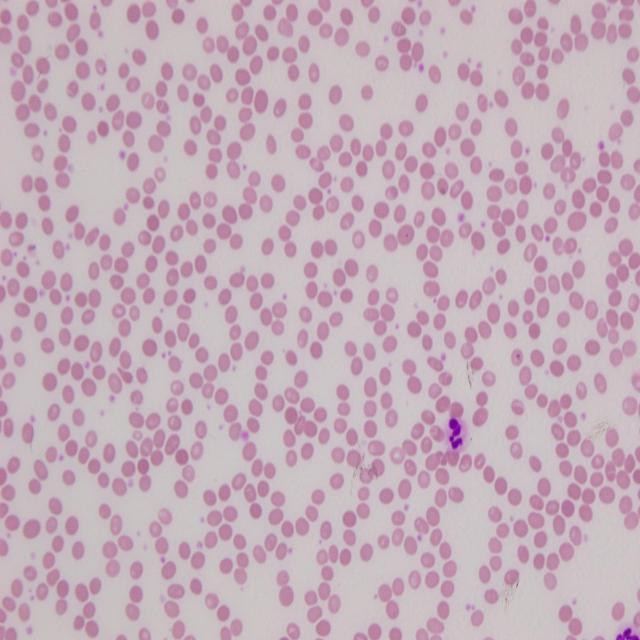cell: (445, 417, 466, 453)
